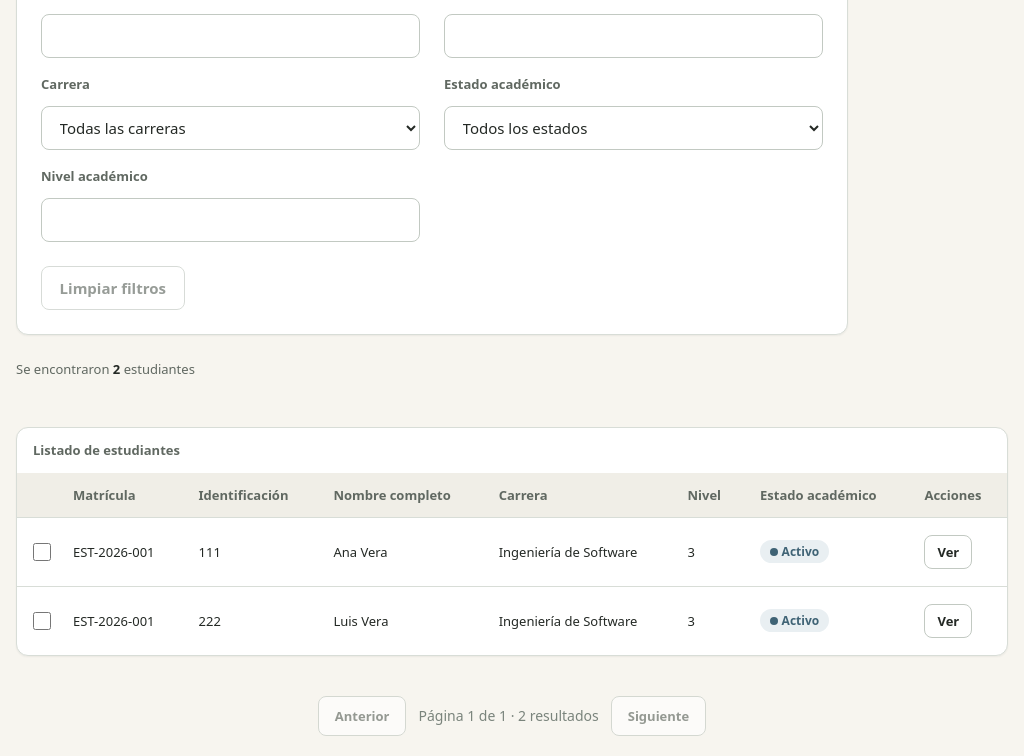
it: ListarEstudiantesComponent › no muestra acciones no permitidas en la barra contextual
(page scrolled)
Click the cell "EST-2026-001" next to "111" at (120, 552), box [57,517,182,586]
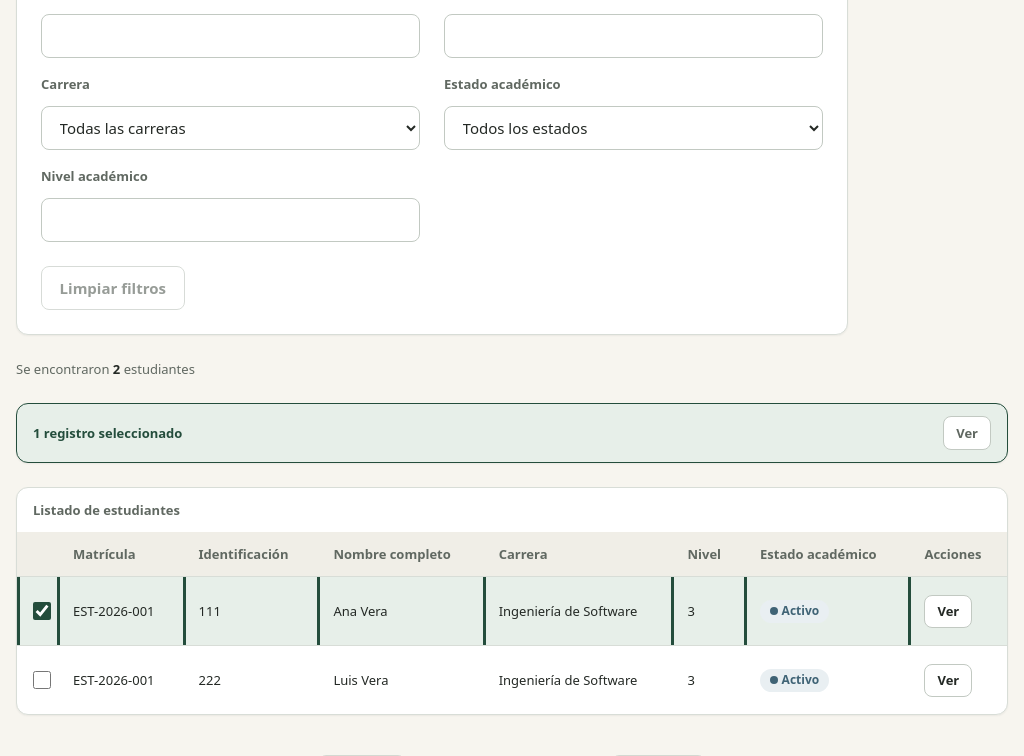
Result: the button "Ver" is shown at [943,416,991,450]
